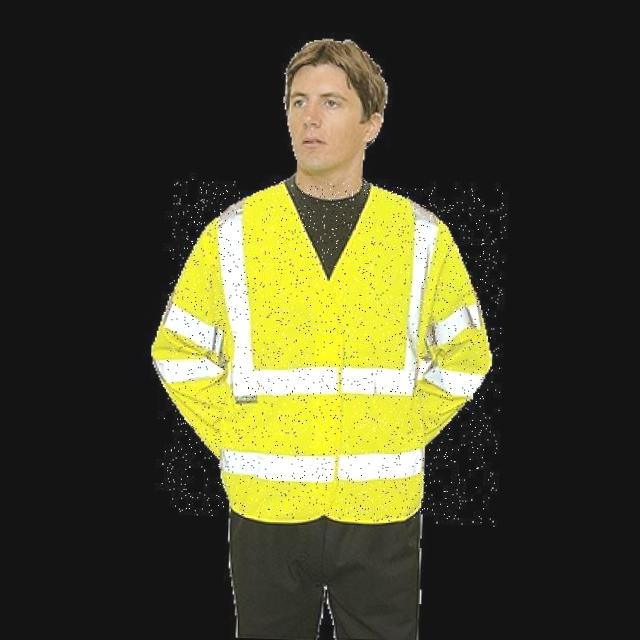vest: (160, 178, 507, 526)
